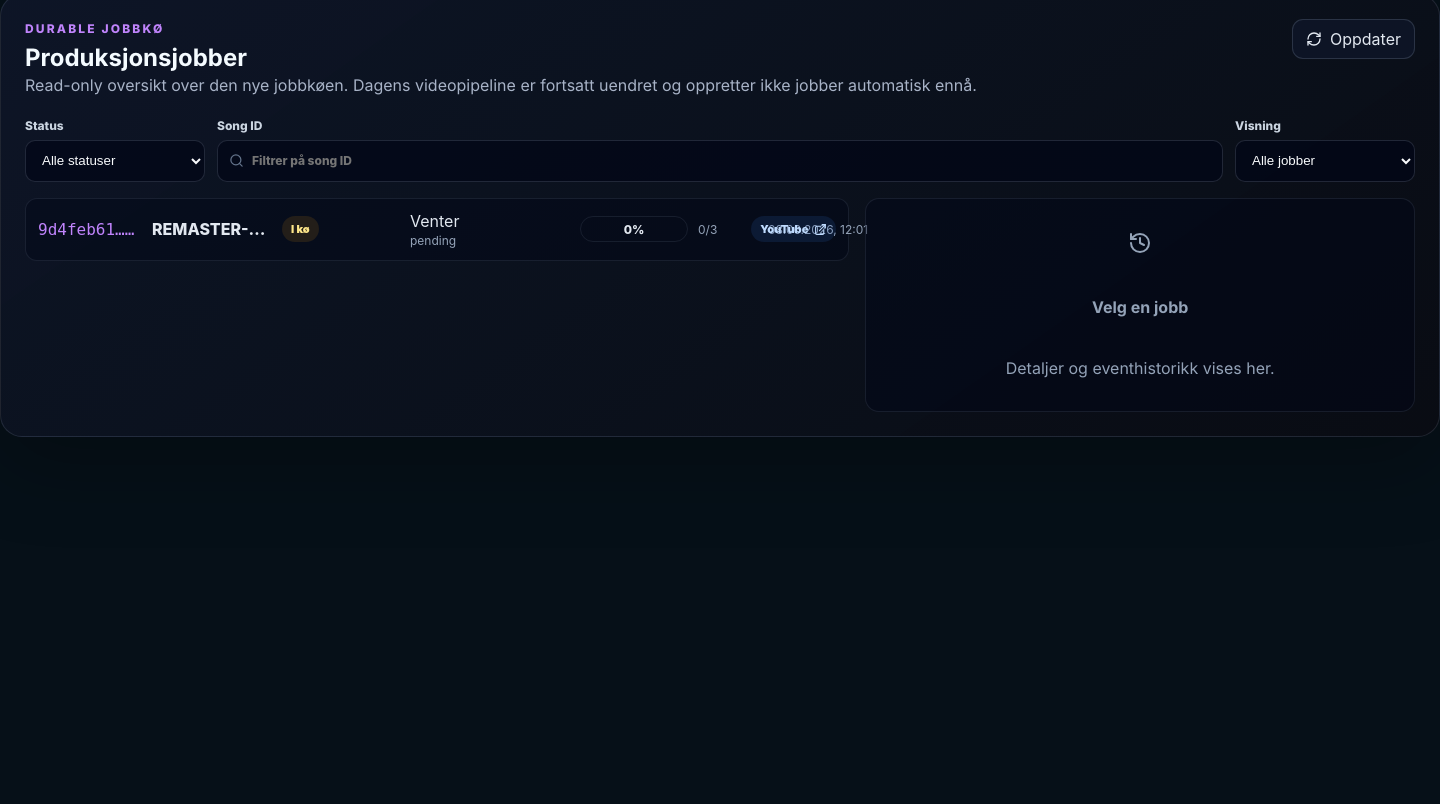
Scenario: AdminJobs › shows YouTube links without implying deletion on cancel
Click the text "REMASTER-SCHEMA-SMOKE-20260608-test": [212, 229] box [152,219,272,239]
(page scrolled)
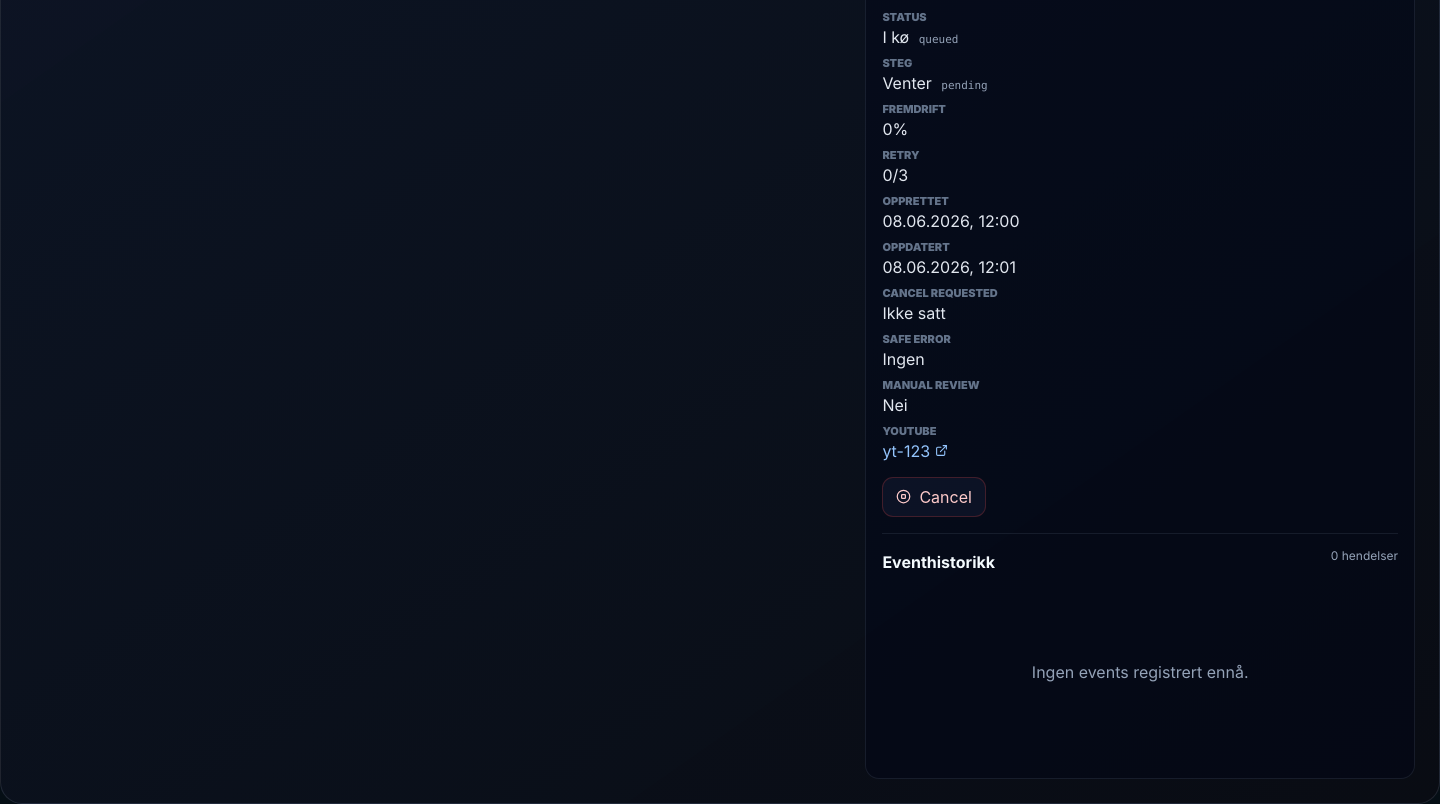
Expected: the link "yt-123" is shown, [882,441,948,461]
